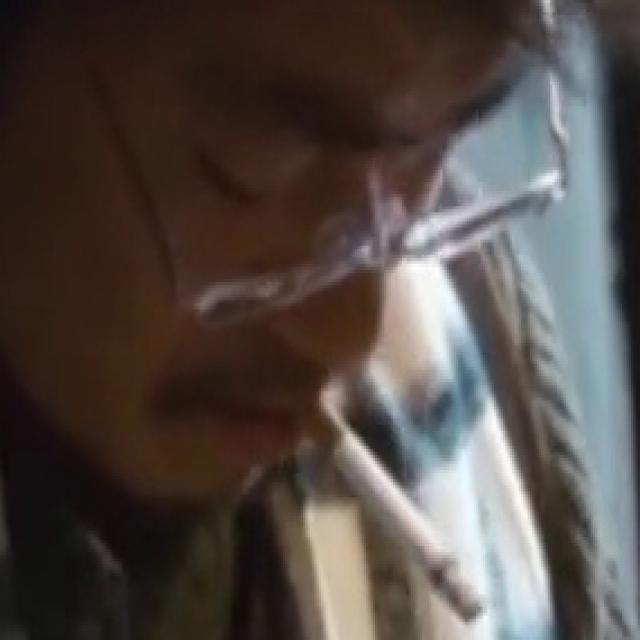smoking: (306, 387, 483, 626)
